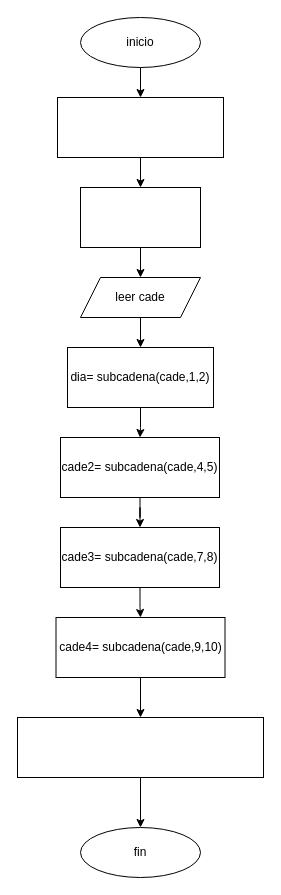
This 281x895 diagram has some shape labels left out. Each missing label, with the box of its shape:
definir cade, cade2, cade3, cade4 dia como cadena: (56, 96, 224, 158)
escribir cade4, cade3, "/", cade2, "/", dia: (16, 716, 264, 778)
escribir la fecha en formato 00/00/0000: (80, 186, 200, 248)
